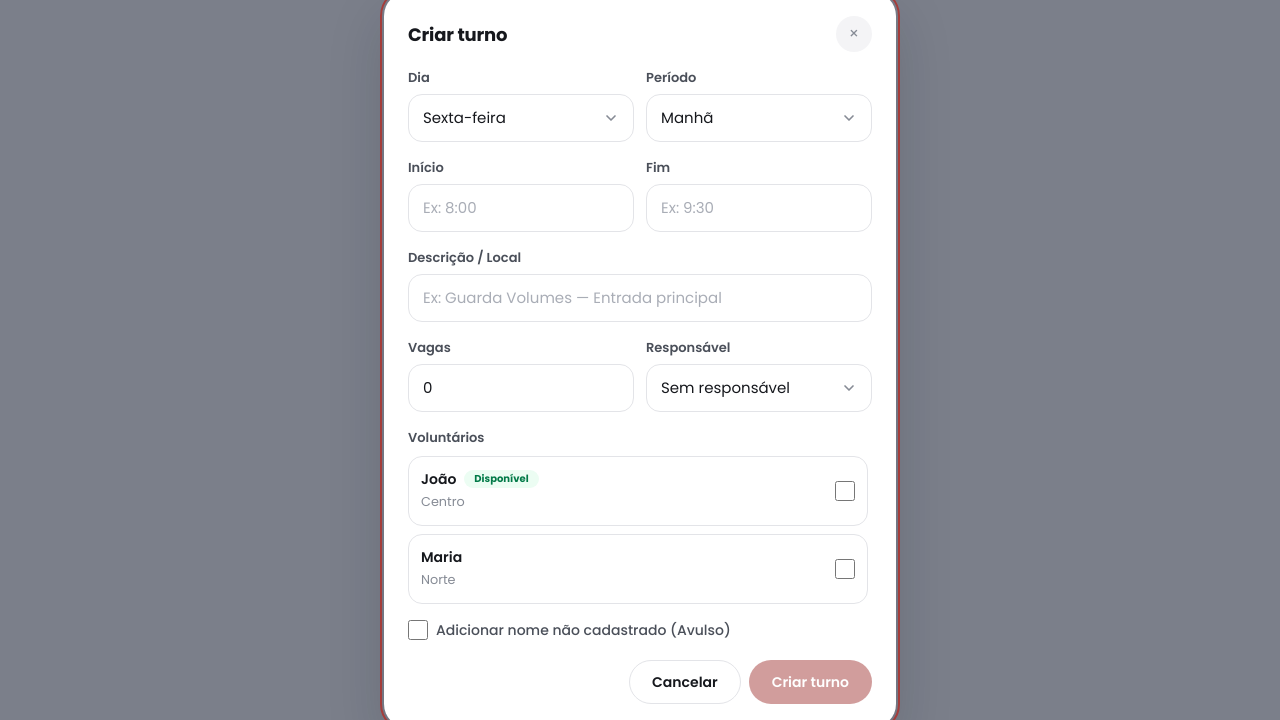
Test: ShiftEditorModal › shows manual name input and hides volunteer list when checkbox is toggled
Click the text "Adicionar nome não cadastrado (Avulso)": (583, 630) [436,620,731,640]
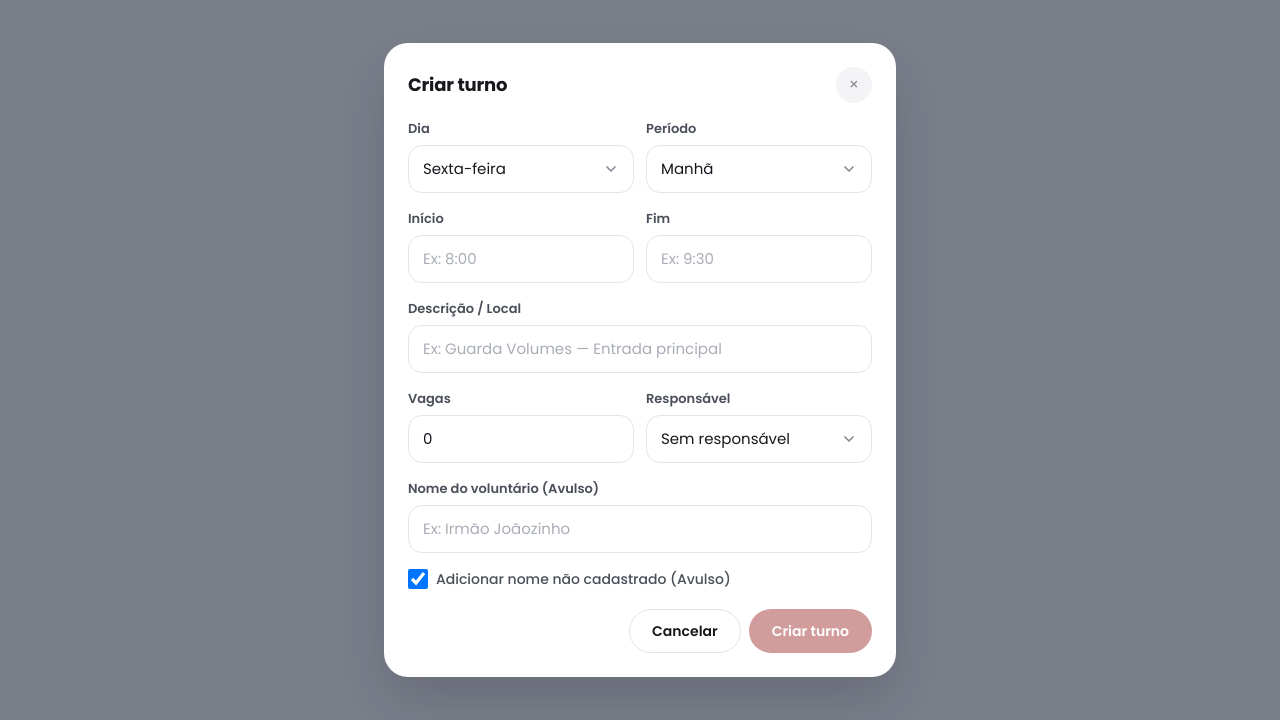
expect the field with placeholder "Ex: Irmão Joãozinho" is shown: met, box [408,504,872,553]
expect the text "Centro" is gone: met
expect the text "Norte" is gone: met
